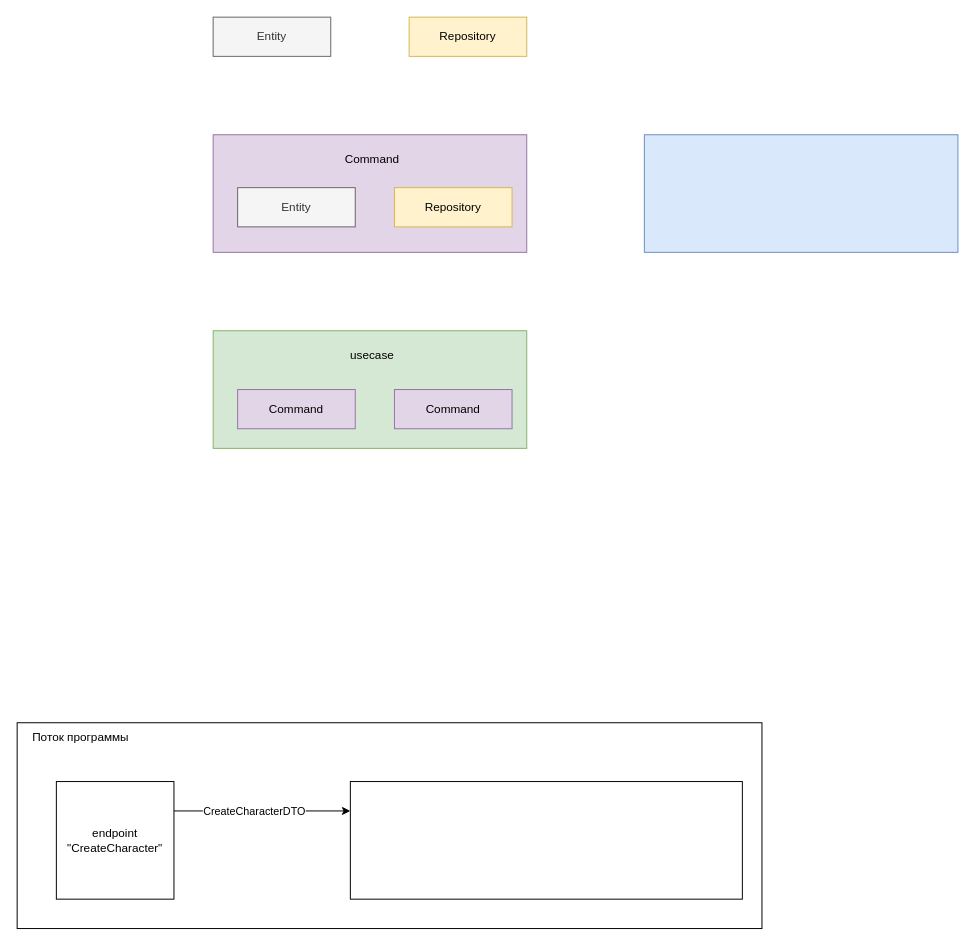
Some shapes in this 975 by 946 pixel diagram are drawn without their labels. The centre of each missing label's shape, as x and y in pixels:
CreateCharacterUsecase: the point at 545,840
Query: the point at 800,193
